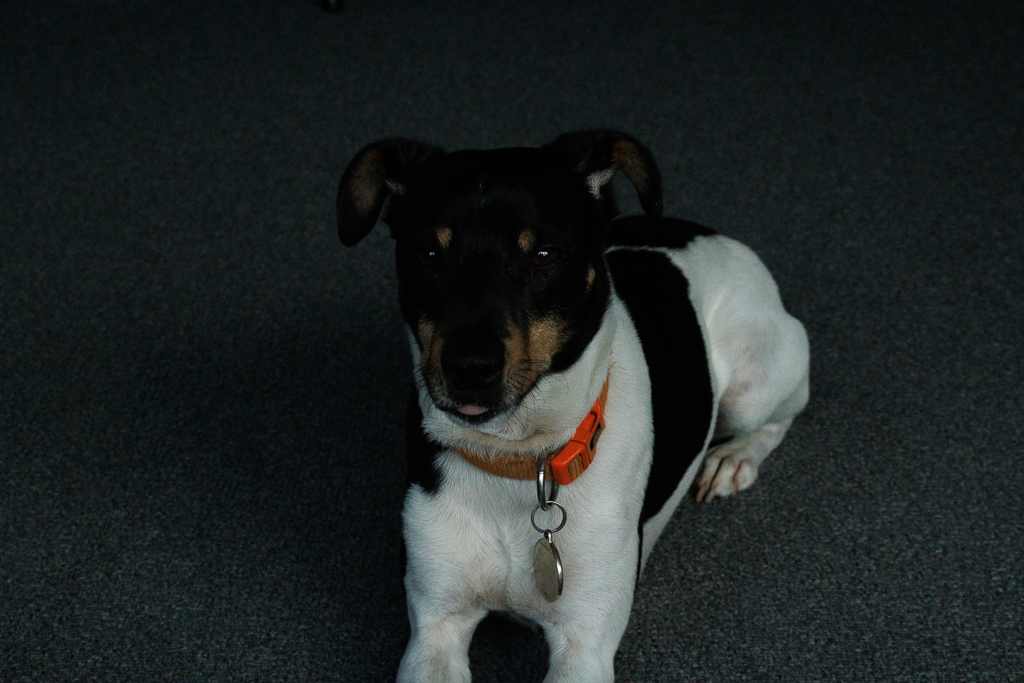Dog: (321, 116, 835, 683)
